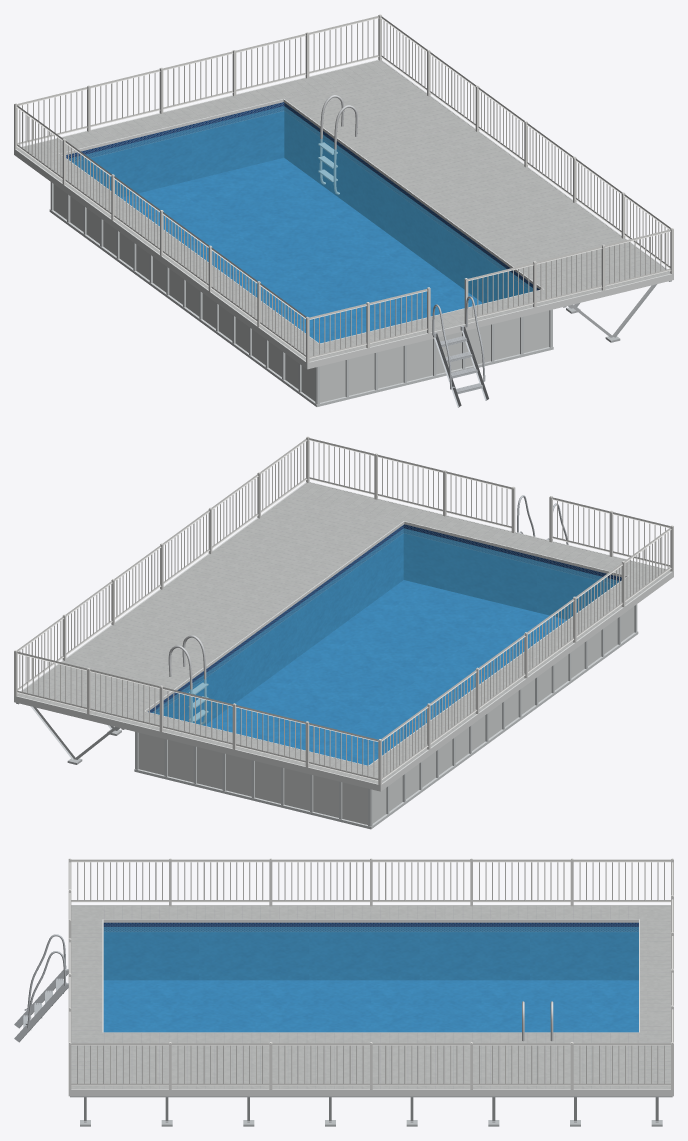
File: kayak-pool-16x32-white-side-ag-fence.0f27a0d2a2.glb
3 views of the same model, one above another, from view 1: azimuth 30°, elevation 25°; view 2: azimuth 150°, elevation 25°; view 3: azimuth 270°, elevation 25° (orthographic). The views are drawn at different scales.
Parts seen in each view (by area): view 1: water, deck, liner_floor, fence, liner_wall, wall, fascia, upright, ladder, steel, stud; view 2: water, deck, liner_floor, fence, liner_wall, wall, fascia, upright, steel, stud; view 3: water, deck, liner_wall, liner_floor, fence, fascia, stud, ladder.
Part boxes in pixels (bbox=[...]): water: bbox=[69, 106, 532, 343]; deck: bbox=[17, 60, 670, 361]; liner_floor: bbox=[121, 158, 482, 343]; fence: bbox=[14, 14, 673, 362]; liner_wall: bbox=[66, 102, 539, 303]; wall: bbox=[53, 184, 549, 402]; fascia: bbox=[14, 59, 673, 369]; upright: bbox=[49, 182, 553, 406]; ladder: bbox=[432, 296, 488, 407]; steel: bbox=[318, 95, 357, 194]; stud: bbox=[563, 280, 671, 342]; water: bbox=[152, 528, 618, 765]; deck: bbox=[17, 482, 670, 783]; liner_floor: bbox=[205, 580, 566, 765]; fence: bbox=[14, 436, 673, 785]; liner_wall: bbox=[148, 524, 621, 725]; wall: bbox=[138, 606, 634, 824]; fascia: bbox=[14, 482, 673, 791]; upright: bbox=[134, 604, 638, 829]; steel: bbox=[168, 635, 208, 724]; stud: bbox=[16, 703, 124, 764]; water: bbox=[103, 927, 638, 1032]; deck: bbox=[71, 905, 670, 1088]; liner_wall: bbox=[103, 922, 638, 980]; liner_floor: bbox=[103, 980, 638, 1032]; fence: bbox=[68, 858, 673, 1089]; fascia: bbox=[68, 905, 673, 1096]; stud: bbox=[70, 1096, 672, 1126]; ladder: bbox=[14, 934, 68, 1042].
Bounding box in the file's own units: 7.93 × 2.15 × 11.96.
Materials: 11 (3 with a texture image).
